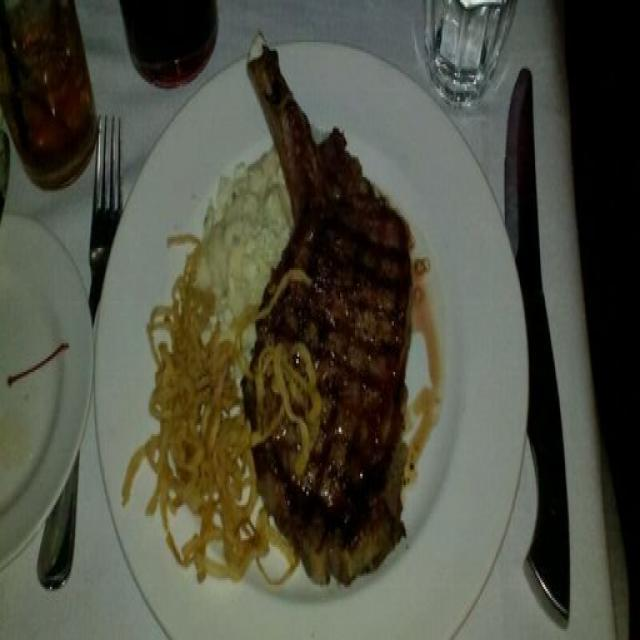Steak: (225, 40, 446, 578)
